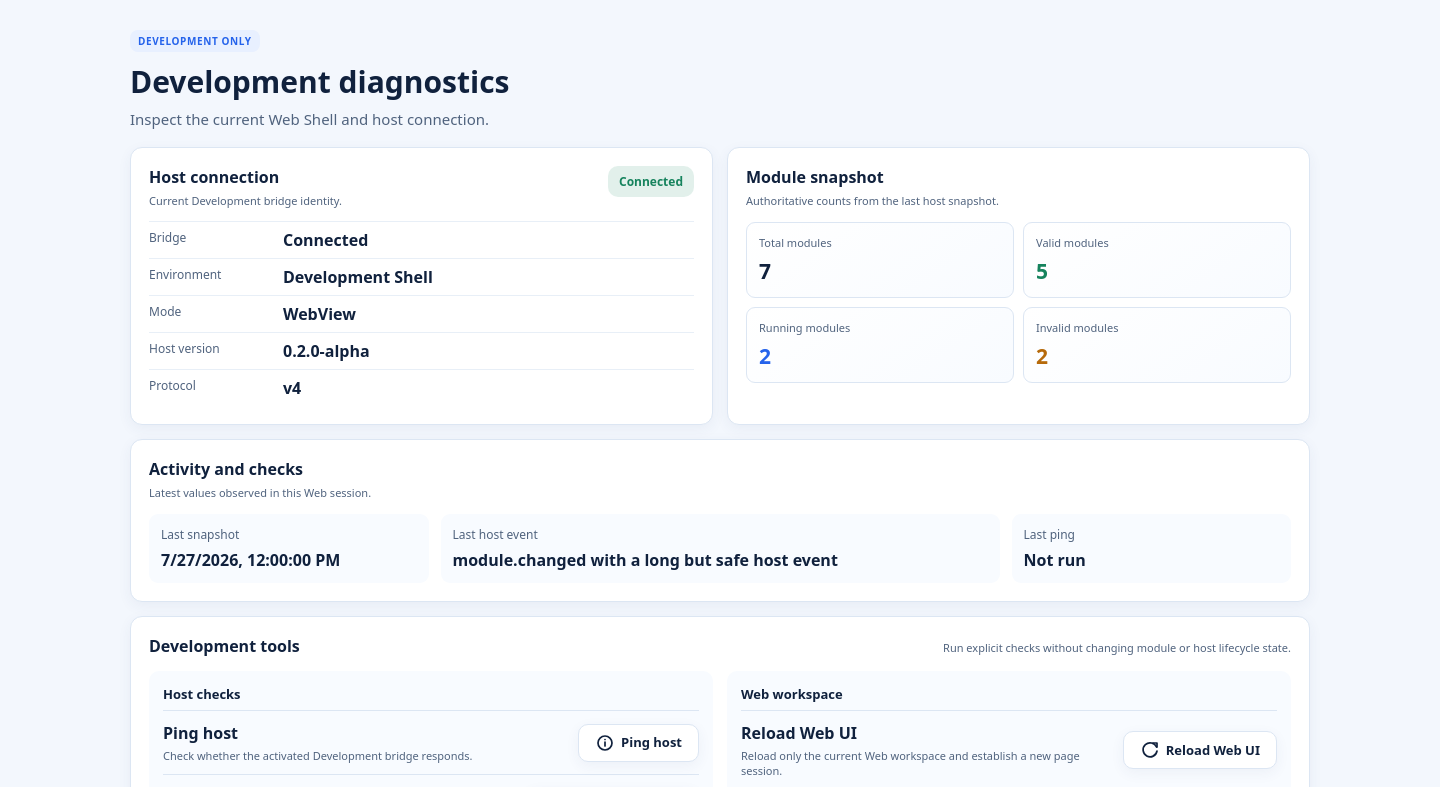
Test: Development diagnostics workspace › reactively localizes diagnostics and the current semantic notice
Click the button "Ping host".
click(638, 743)  # box [578, 724, 699, 762]
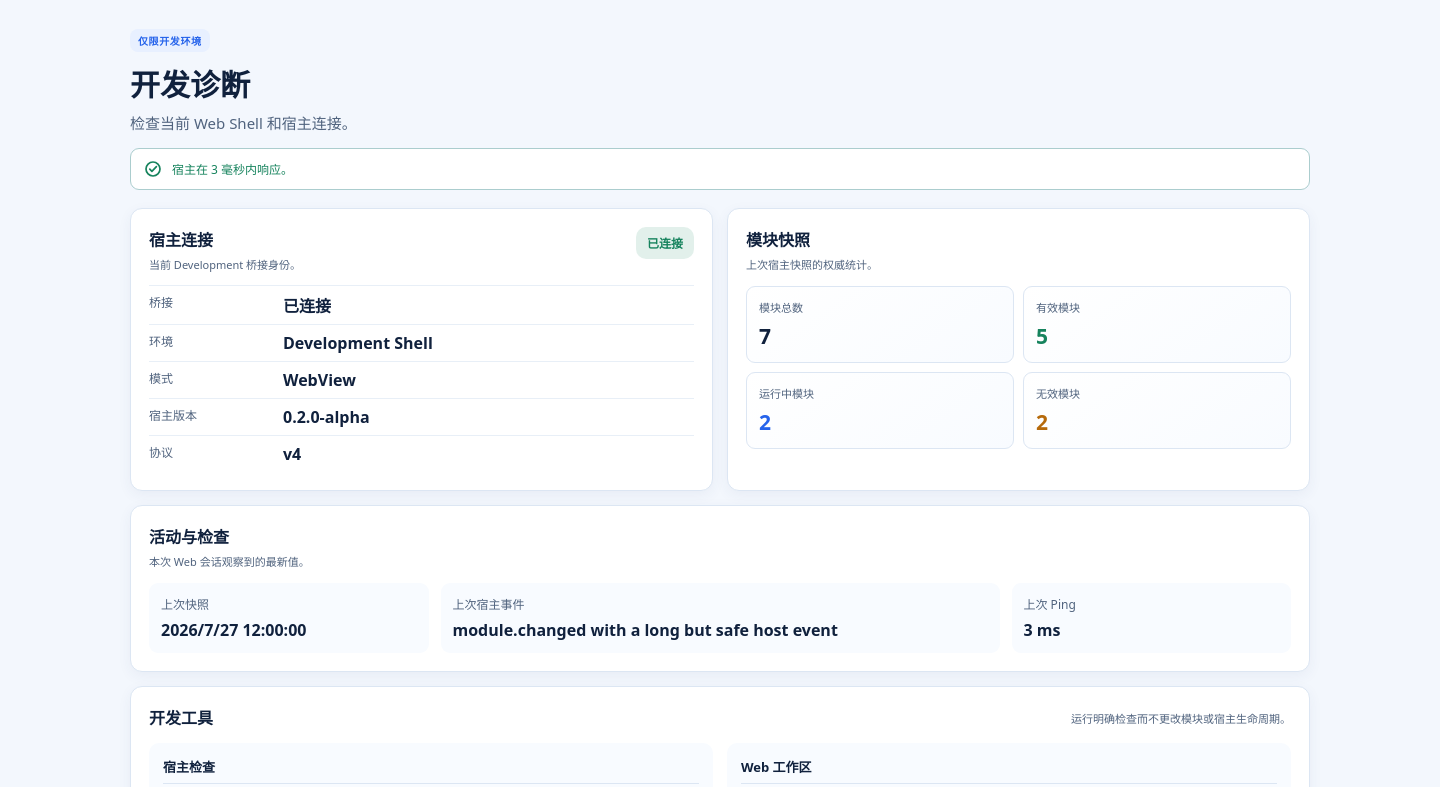
Expected: the text "Development Shell" is shown, [283, 332, 433, 354]
Expected: the text "开发诊断" is shown, [130, 64, 250, 105]
Expected: the text "宿主在" is shown, [172, 161, 293, 178]
